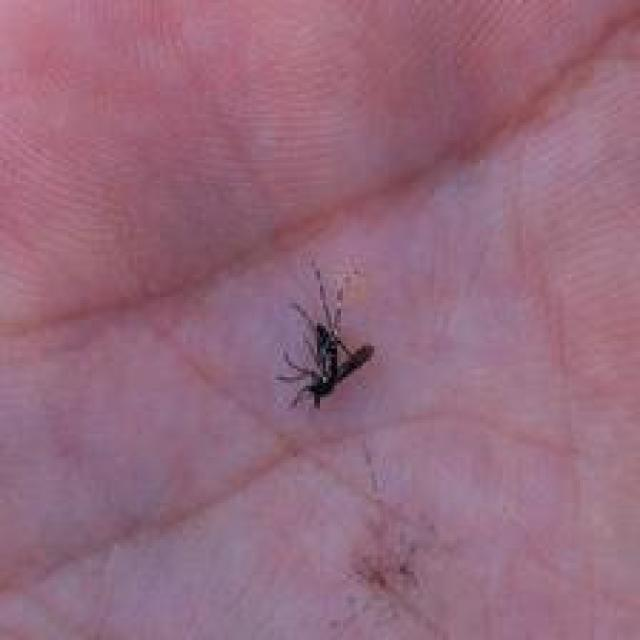Aedes albopictus: (274, 260, 377, 411)
